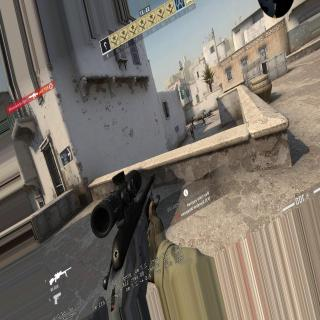T-Body: (190, 124, 195, 141), (201, 112, 206, 126), (191, 117, 196, 129)
T-Head: (190, 124, 192, 127), (202, 113, 204, 115), (192, 117, 193, 120)
